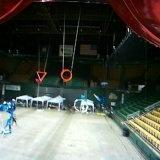Orange_Circle_GShape: (61, 68, 72, 81)
Orange_Triangle_Gshape: (34, 70, 45, 83)
